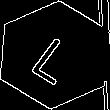L_NE: (25, 26, 85, 84)
